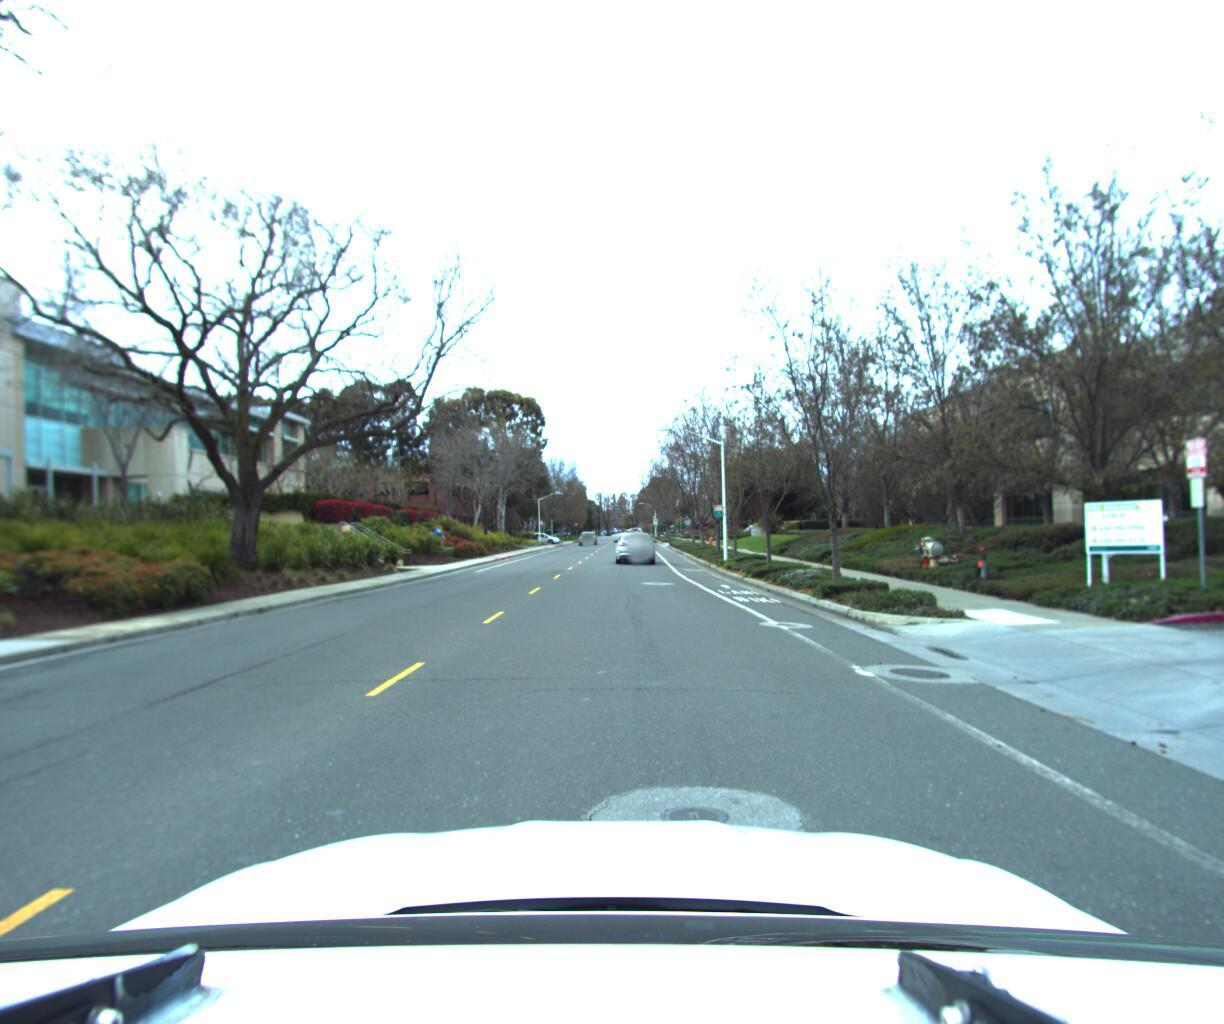car: (610, 525, 655, 563), (580, 526, 600, 542)
